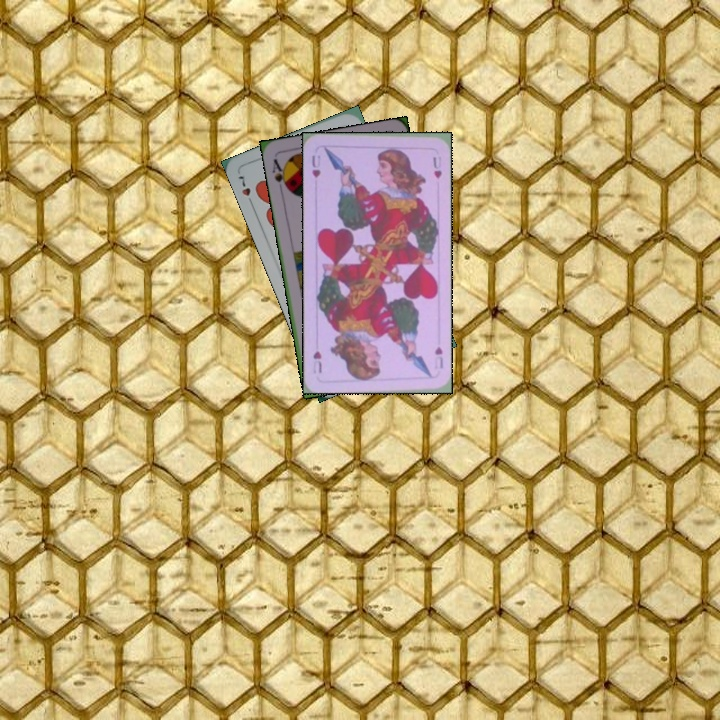H7: (234, 171, 256, 209)
HU: (308, 151, 323, 180), (430, 342, 445, 371)
SA: (268, 155, 292, 194)
